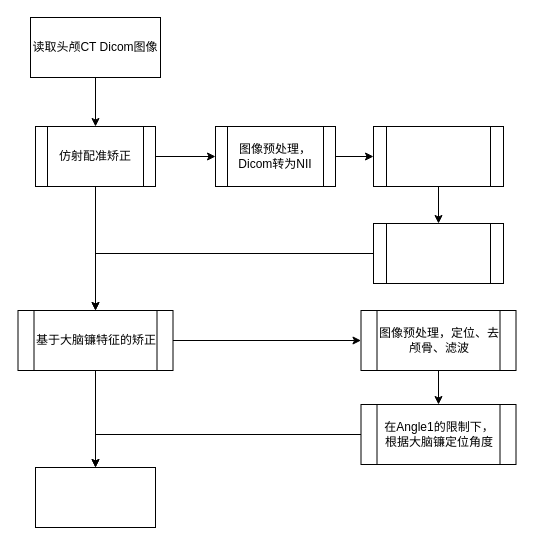
Image size: 533x545. Some labels were removed from this diagram. Here are the shapes that lost their labels. From the top down, the centre of each, then its label:
point (438, 156): Ants进行仿射配准
point (438, 253): 由变换矩阵获取矫正角度Angle1
point (95, 497): 获取矫正角度， 输出矫正图像
